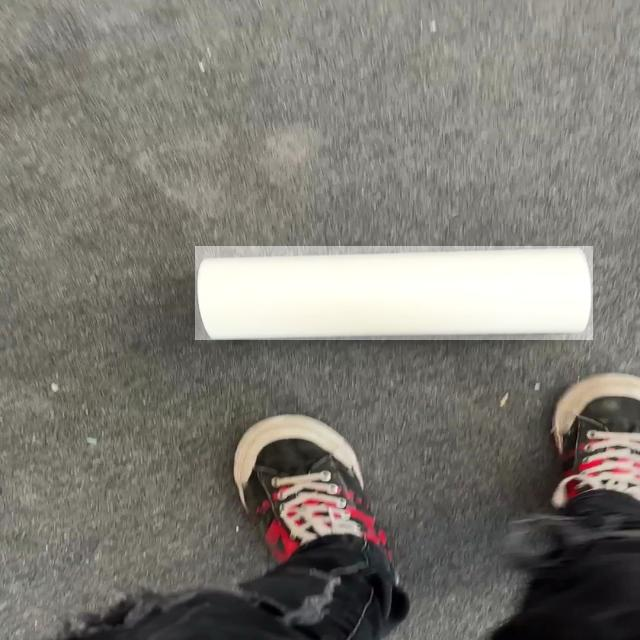Coral: (195, 246, 593, 340)
